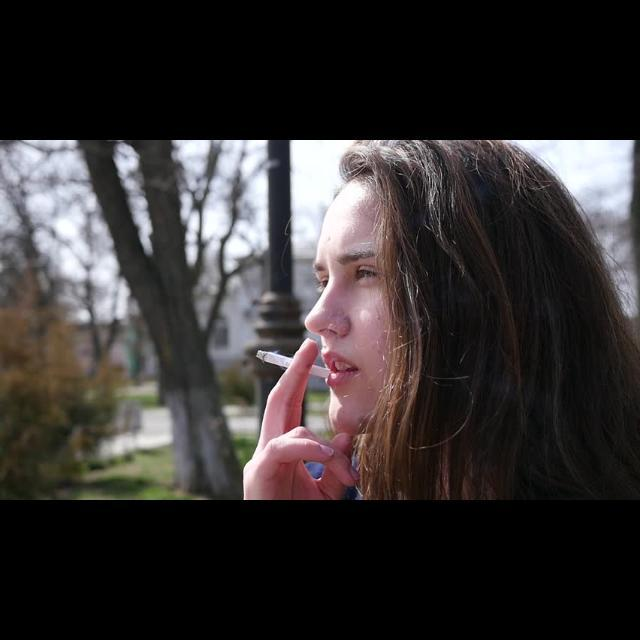rokok: (250, 345, 338, 383)
